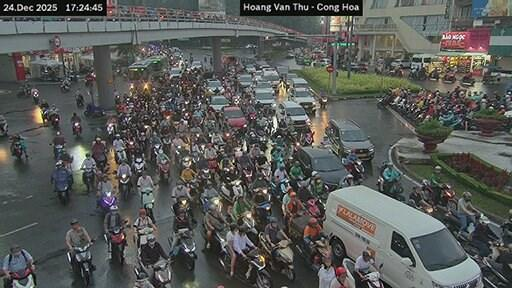motorbike: (259, 233, 294, 279), (234, 247, 271, 287), (468, 252, 508, 286), (440, 211, 483, 239), (295, 238, 330, 270), (422, 180, 455, 210), (172, 228, 195, 269), (67, 243, 89, 284), (103, 226, 124, 262), (236, 211, 258, 244), (377, 172, 403, 199), (170, 196, 195, 224), (220, 175, 243, 202), (342, 157, 364, 184), (9, 268, 35, 287), (253, 202, 271, 228), (269, 178, 288, 202), (140, 187, 153, 221), (152, 261, 169, 287), (303, 198, 323, 220), (99, 190, 117, 214), (133, 266, 153, 287), (133, 225, 152, 247), (182, 176, 198, 202), (342, 257, 355, 286), (361, 270, 383, 287), (54, 179, 69, 203), (198, 162, 211, 189), (210, 223, 226, 244), (218, 243, 230, 270), (199, 197, 220, 212), (118, 174, 130, 199), (82, 167, 93, 192), (259, 162, 271, 184), (83, 103, 103, 116), (158, 158, 169, 181), (133, 156, 144, 179), (150, 143, 162, 162), (93, 153, 105, 171), (12, 140, 22, 160), (377, 93, 390, 108), (125, 139, 134, 160), (243, 165, 252, 185), (300, 131, 313, 144), (115, 148, 127, 162), (137, 131, 146, 149), (106, 122, 115, 140), (208, 158, 217, 175), (0, 113, 6, 135), (48, 112, 57, 126), (54, 144, 63, 158), (16, 85, 28, 95), (460, 76, 473, 85), (442, 72, 455, 81), (181, 157, 191, 168), (201, 221, 207, 238), (428, 71, 438, 80), (73, 121, 79, 135), (60, 81, 69, 90), (32, 90, 38, 103), (320, 94, 326, 107), (76, 94, 82, 106), (167, 238, 170, 246), (134, 268, 138, 274), (140, 262, 141, 265), (380, 264, 381, 266), (496, 252, 498, 253), (230, 214, 231, 216), (380, 169, 381, 170)
